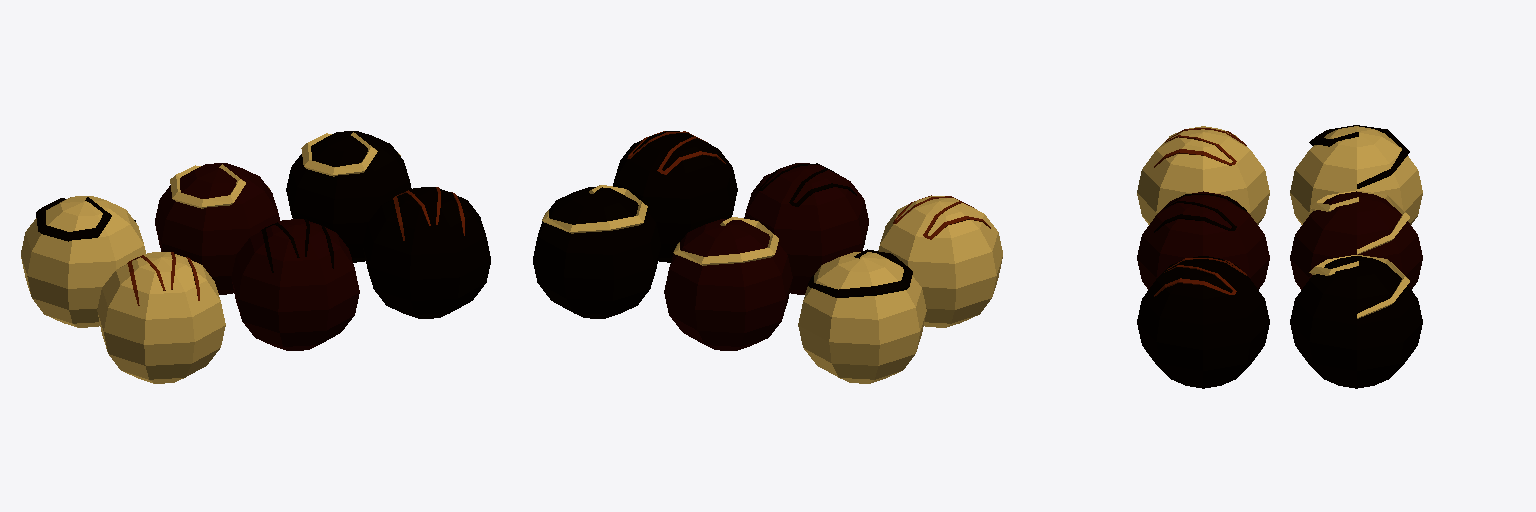
The model's file is truffleChocolate.obj.
The picture shows the model from 3 angles: view 1: azimuth 30°, elevation 25°; view 2: azimuth 150°, elevation 25°; view 3: azimuth 270°, elevation 25°; orthographic projection.
Bounding box in the file's own units: 6.6 × 2.05 × 4.3.